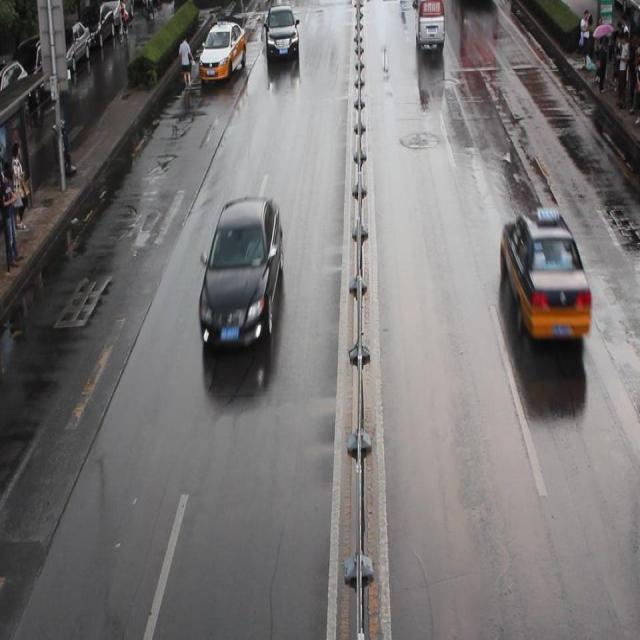car: (198, 196, 282, 353), (499, 205, 590, 341), (198, 20, 246, 81), (263, 1, 299, 59)
truck: (414, 1, 444, 45)
